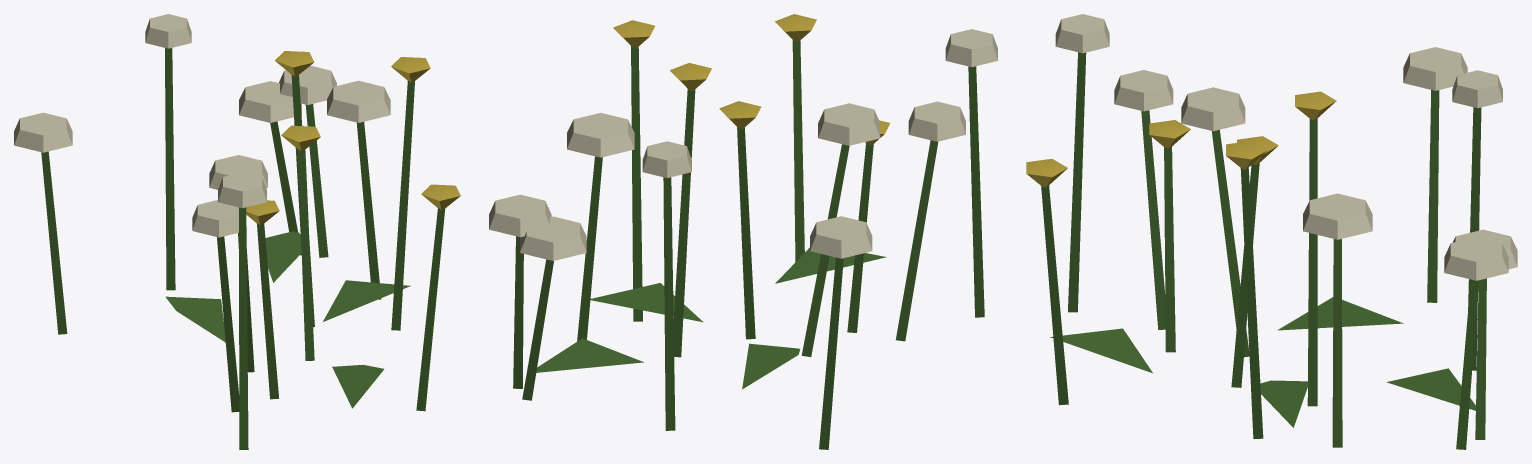
File: Wildflowers.fbx
3 views of the same model, side by side, from view 1: azimuth 30°, elevation 25°; view 2: azimuth 150°, elevation 25°; view 3: azimuth 270°, elevation 25° (orthographic). The views are drawn at different scales.
Parts seen in each view (by area): view 1: Wildflowers; view 2: Wildflowers; view 3: Wildflowers.
Boxes of the visible parts, bbox=[...] form: Wildflowers: bbox=[14, 14, 460, 449]; Wildflowers: bbox=[489, 14, 997, 449]; Wildflowers: bbox=[1026, 14, 1517, 449].
Bounding box in the file's own units: 0.7473 × 0.5718 × 0.8489.
